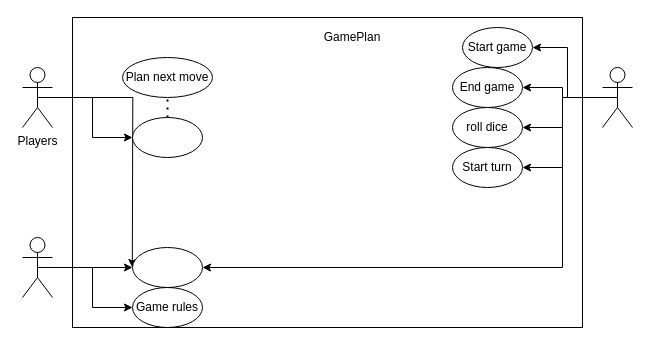
Image size: 664x345. Some labels were removed from this diagram. Each missing label, with the centre of its shape:
"Collision" belongs at point 167,267.
"Logic" belongs at point 37,267.
"LudoGame" belongs at point 617,97.
"Make move" belongs at point 167,137.
